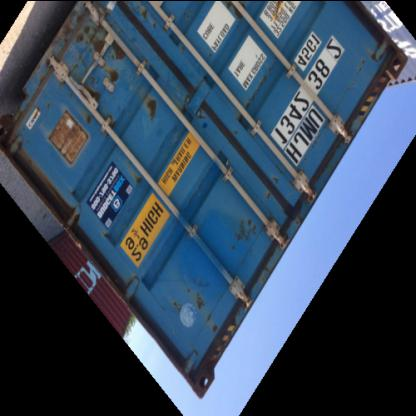Damage: (64, 12, 132, 92), (170, 285, 224, 336), (350, 42, 374, 94), (232, 219, 260, 253), (142, 92, 166, 128), (132, 163, 154, 191), (81, 112, 105, 127)
